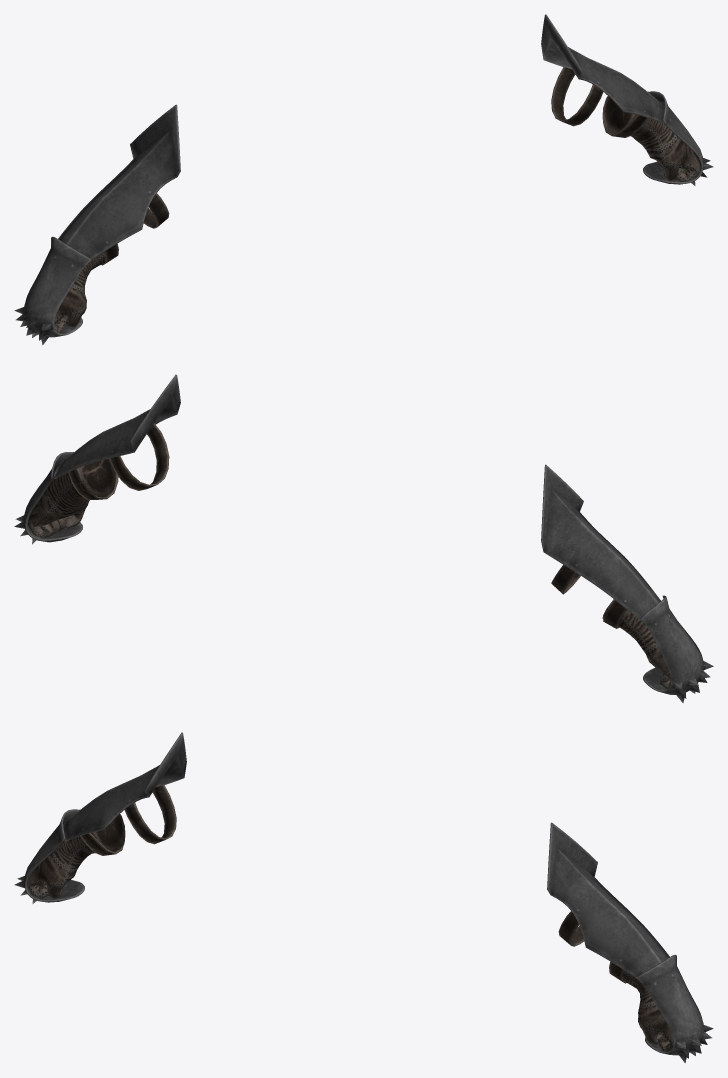
File: sk_uruk_hai_bracer_elite_b1.fbx
3 renders of one model, top to bottom at view 1: azimuth 30°, elevation 25°; view 2: azimuth 150°, elevation 25°; view 3: azimuth 330°, elevation 25°, orthographic.
Parts seen in each view (by area): view 1: sk_uruk_hai_bracer_elite_b1.0, sk_uruk_hai_bracer_elite_b1.1; view 2: sk_uruk_hai_bracer_elite_b1.0, sk_uruk_hai_bracer_elite_b1.1; view 3: sk_uruk_hai_bracer_elite_b1.0, sk_uruk_hai_bracer_elite_b1.1.
Boxes of the visible parts, x1,y1,x2,y2 form: sk_uruk_hai_bracer_elite_b1.0: (14,14,713,345); sk_uruk_hai_bracer_elite_b1.1: (54,67,700,333); sk_uruk_hai_bracer_elite_b1.0: (14,374,713,703); sk_uruk_hai_bracer_elite_b1.1: (28,423,670,689); sk_uruk_hai_bracer_elite_b1.0: (14,732,713,1063); sk_uruk_hai_bracer_elite_b1.1: (27,785,673,1054).
Size of the model in its own units: 1.52 by 0.1824 by 0.4298.
Materials: 2 (2 with a texture image).
